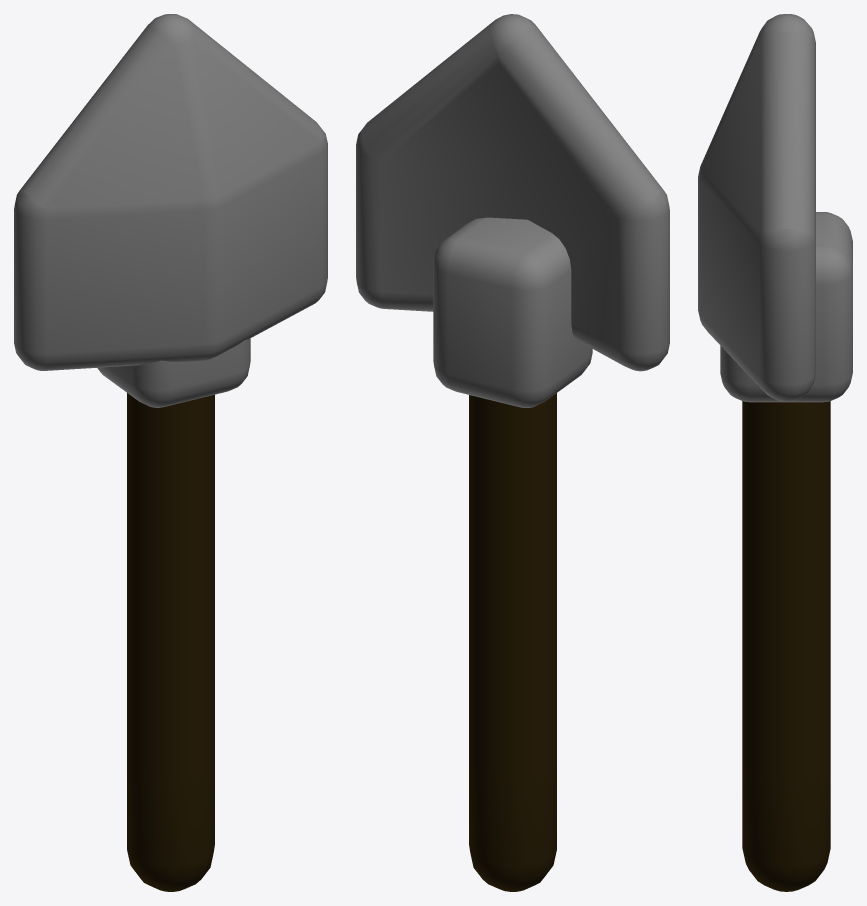
The model's file is Golden_Shovel.fbx.
3 views of the same model, side by side, from view 1: azimuth 30°, elevation 25°; view 2: azimuth 150°, elevation 25°; view 3: azimuth 270°, elevation 25° (orthographic).
Visible parts, largest first — view 1: Tool_Shovel001, Handle001; view 2: Tool_Shovel001, Handle001; view 3: Tool_Shovel001, Handle001.
Part boxes in pixels (x1,y1,x2,y2): Tool_Shovel001: (14,14,327,407); Handle001: (127,393,214,891); Tool_Shovel001: (356,14,669,407); Handle001: (469,393,556,891); Tool_Shovel001: (698,14,852,402); Handle001: (742,401,830,891).
Bounding box in the file's own units: 28.58 × 77.63 × 12.5.
